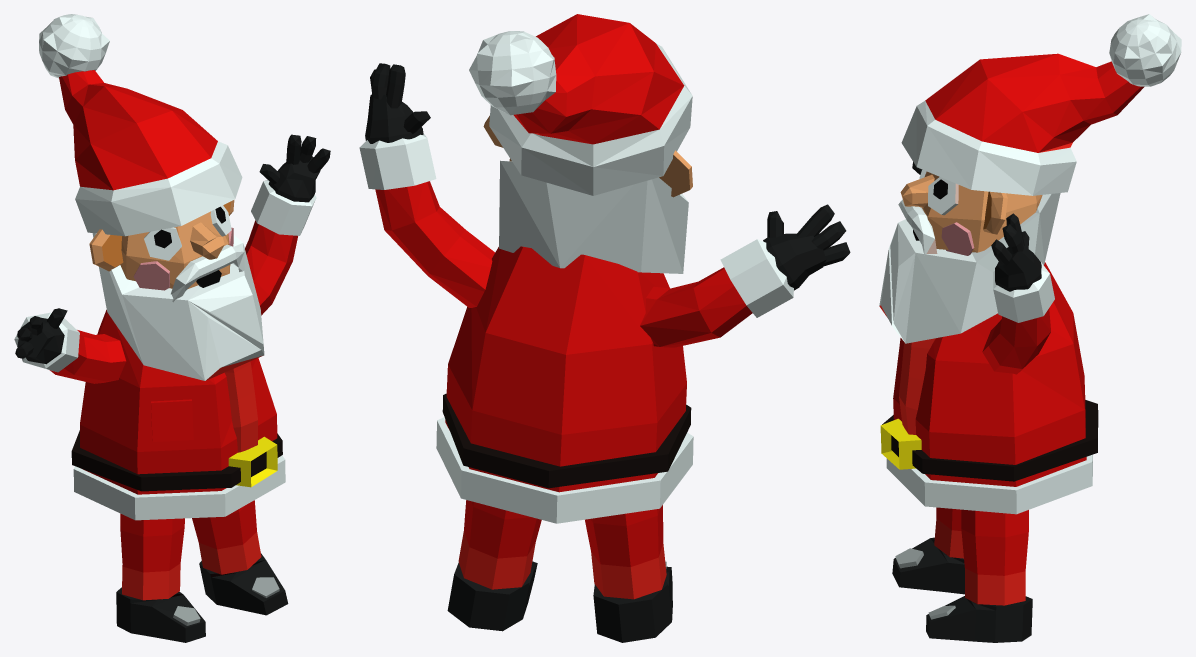
Rendered from santa.glb.
3 renders of one model, left to right at view 1: azimuth 30°, elevation 25°; view 2: azimuth 150°, elevation 25°; view 3: azimuth 270°, elevation 25°, orthographic. The views are drawn at different scales.
Parts seen in each view (by area): view 1: node_MeshObject-289924096-PolyPaper21; view 2: node_MeshObject-289924096-PolyPaper21; view 3: node_MeshObject-289924096-PolyPaper21.
Boxes of the visible parts, box(x1,y1,x2,y2) form: node_MeshObject-289924096-PolyPaper21: box(14, 14, 330, 642); node_MeshObject-289924096-PolyPaper21: box(359, 14, 850, 642); node_MeshObject-289924096-PolyPaper21: box(879, 14, 1181, 642).
Bounding box in the file's own units: 0.4191 × 0.6272 × 0.2999.
